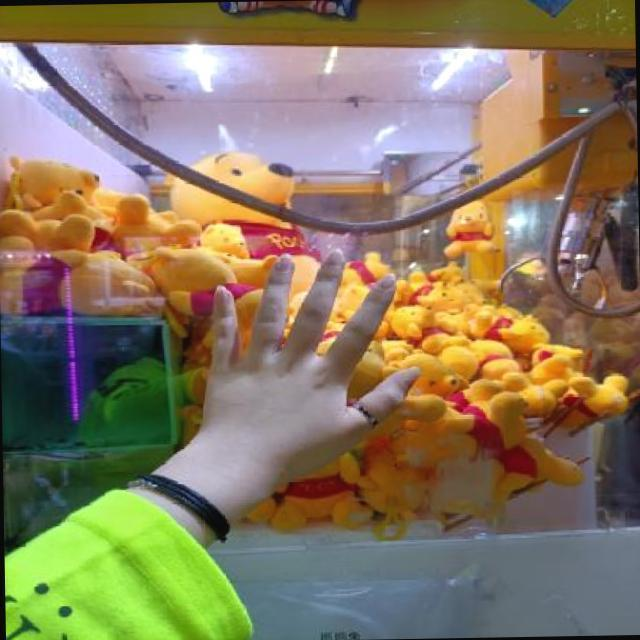hand: (174, 231, 430, 492)
